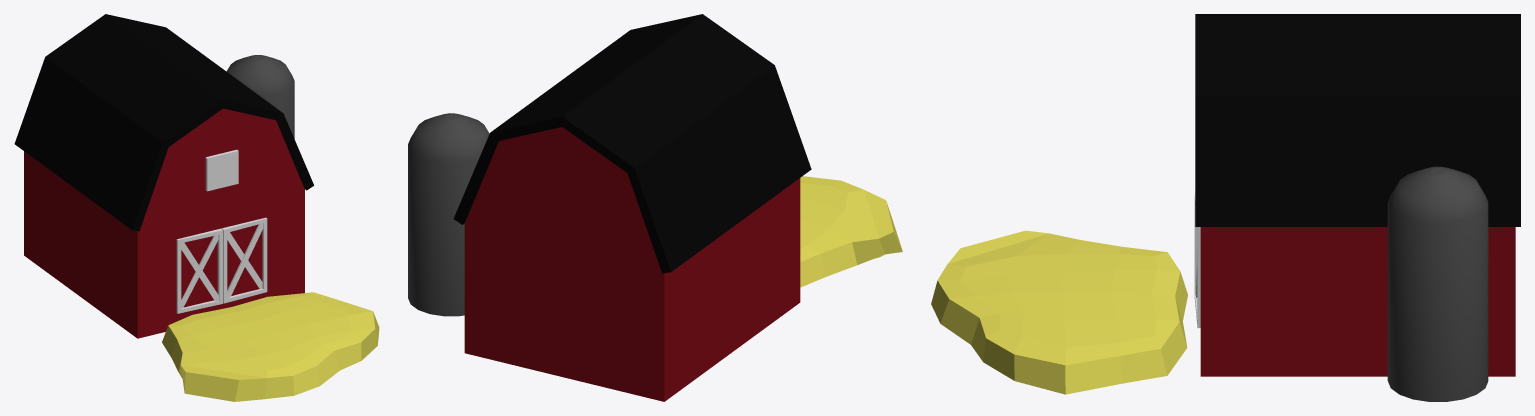
The model's file is barn.fbx.
The picture shows the model from 3 angles, left to right: view 1: azimuth 30°, elevation 25°; view 2: azimuth 150°, elevation 25°; view 3: azimuth 270°, elevation 25°; orthographic projection. The views are drawn at different scales.
Visible parts, largest first — view 1: barn; view 2: barn; view 3: barn.
Part boxes in pixels (bbox=[...]): barn: bbox=[14, 14, 379, 401]; barn: bbox=[408, 14, 902, 401]; barn: bbox=[931, 14, 1520, 401].
Bounding box in the file's own units: 1635 × 1347 × 2349.
